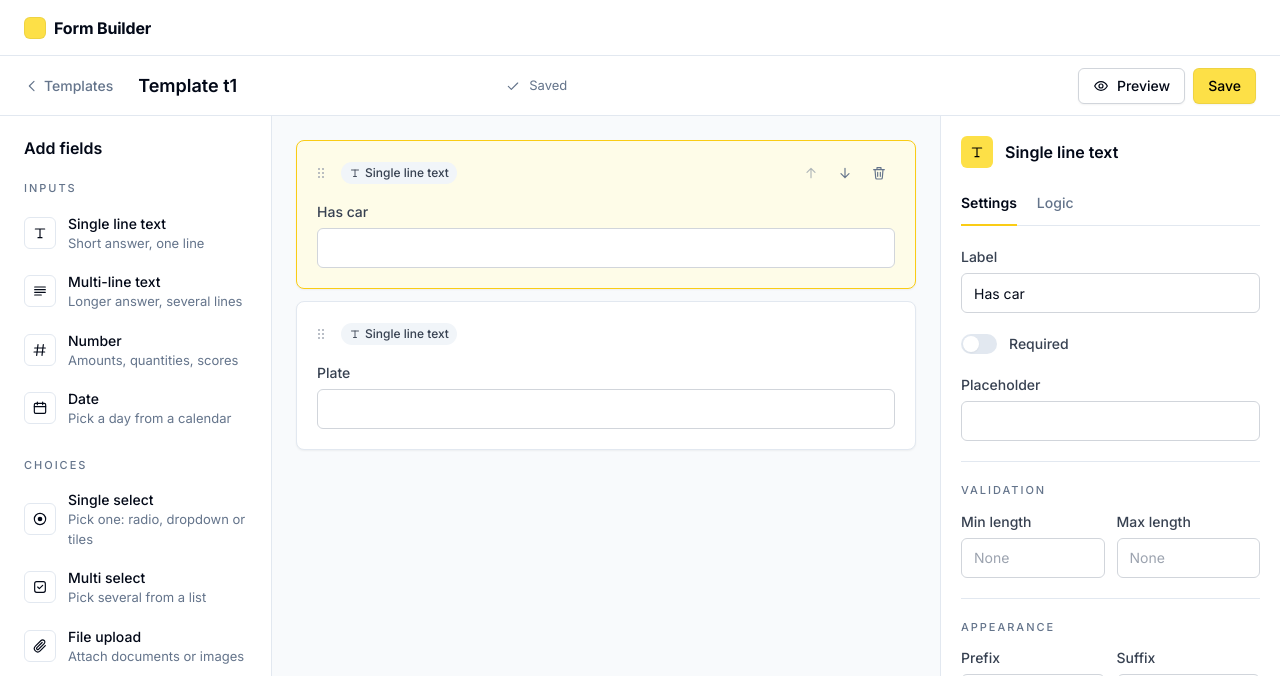
rule editor › an incomplete rule blocks Save
The image size is (1280, 676).
Step 1. Click the button named "Plate," → (606, 376), box [297,302,915,449]
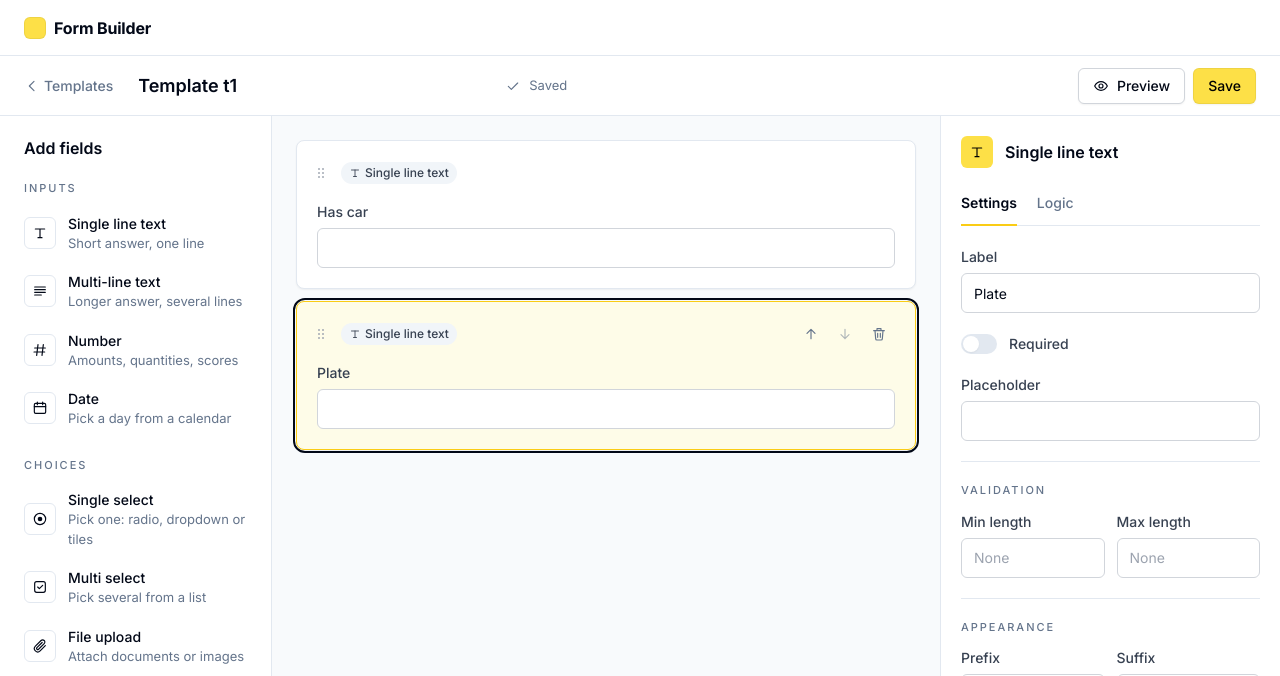
Step 2. Click the tab "Logic" → (1055, 202), box [1037,180,1074,225]
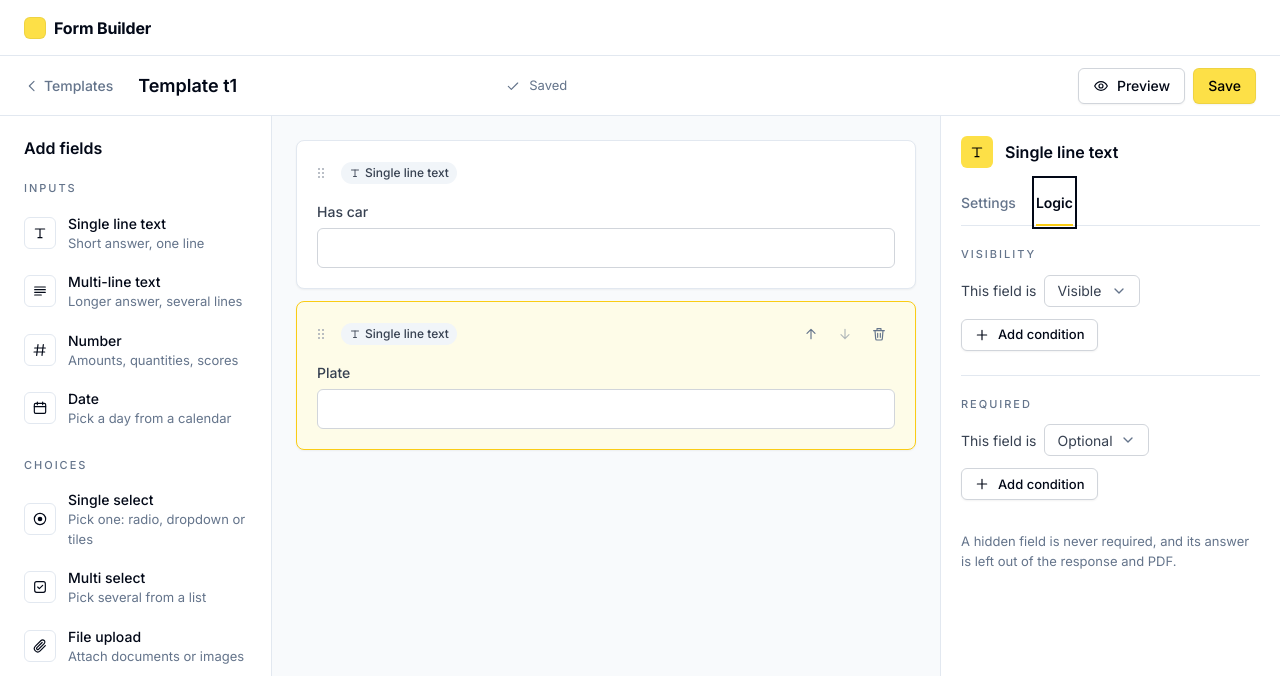
Step 3. Click the button "Add condition" below "Visibility" → (1029, 334), box [961,318,1098,350]
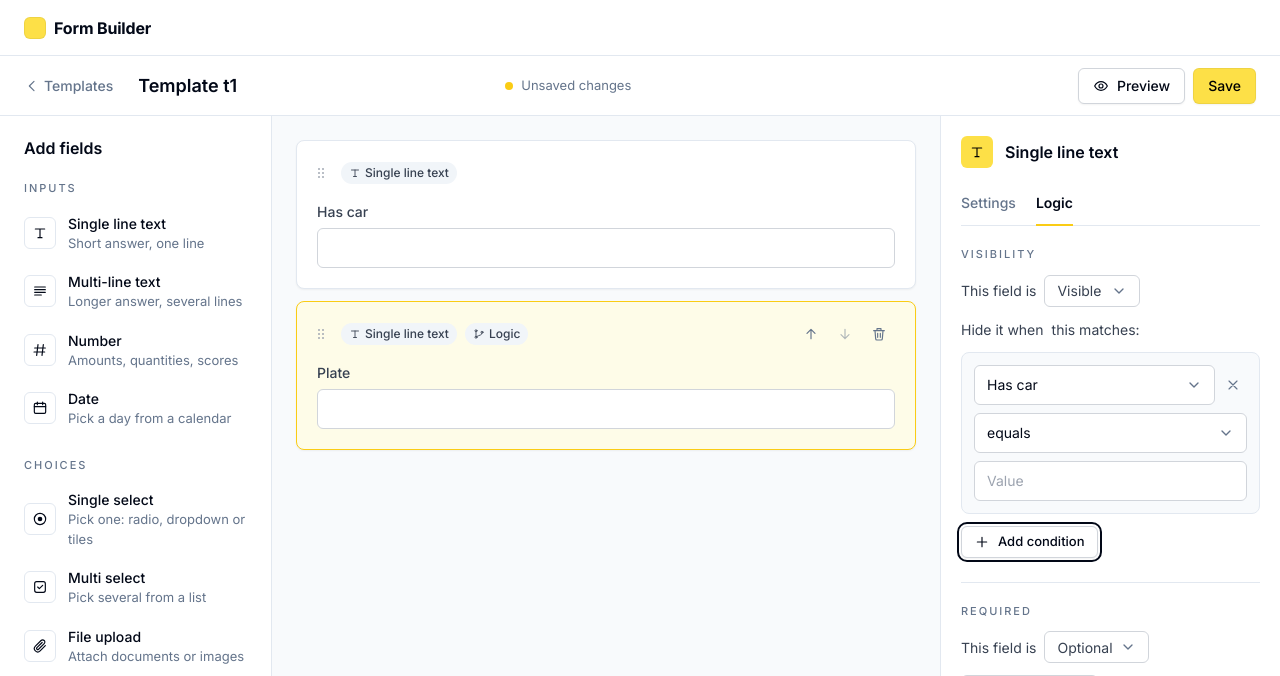
Step 4. Click the button "Save" → (1225, 86), box [1193,68,1256,104]
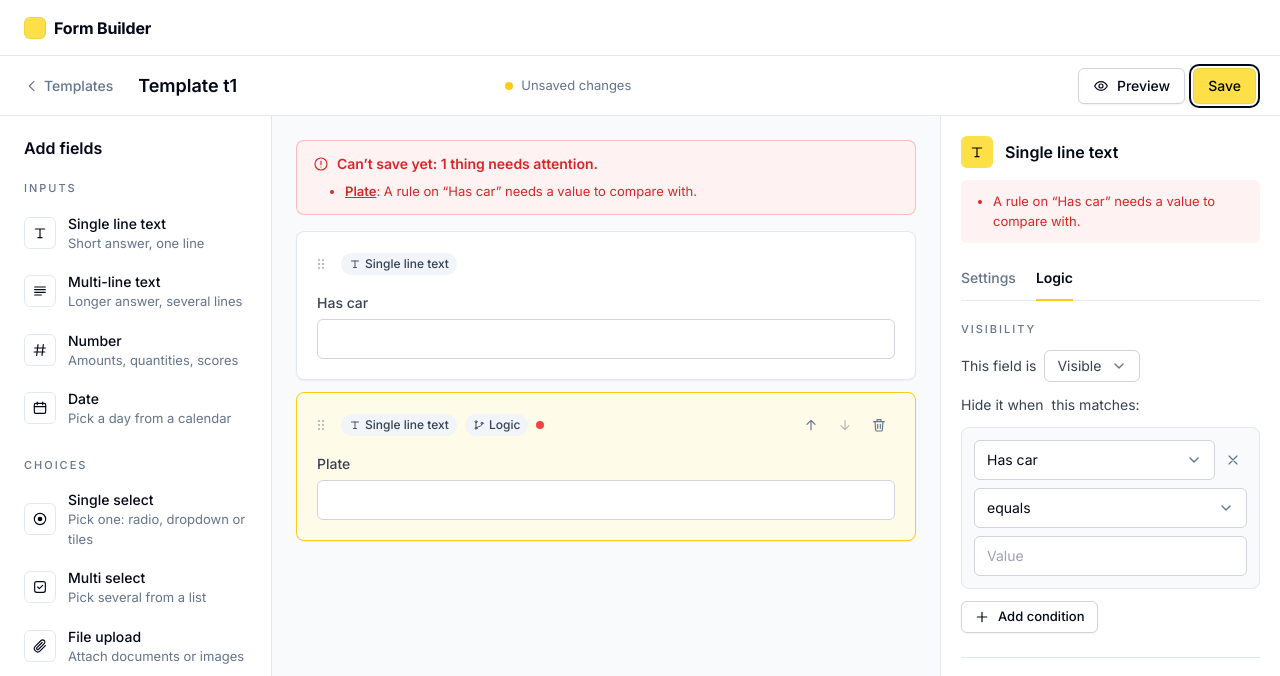
Result: the message that starts with "Can’t save yet: 1 thing needs attention." shows "A rule on “Has car” needs a value to compare with." at [384,183,697,199]
